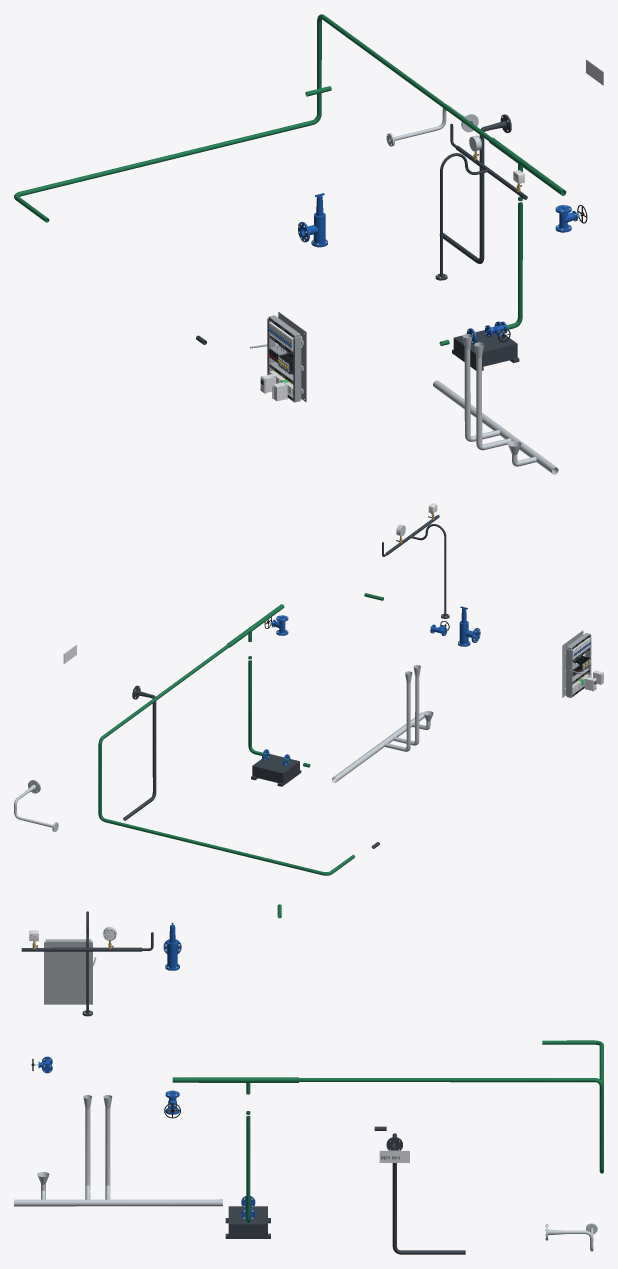
The picture shows the model from 3 angles, top to bottom: view 1: azimuth 30°, elevation 25°; view 2: azimuth 150°, elevation 25°; view 3: azimuth 270°, elevation 25°; orthographic projection. The views are drawn at different scales.
Parts seen in each view (by area): view 1: to_economizer / green, local_open_drains / steel, cabinet_interior / cabinet_interior_0.npz, pump_branch_2 / dark, bottom_to_bdv / dark, pressure_header / dark, safety_1 / blue, pump_branch_2 / green, pump_delivery / green, fv_to_trap_gap / steel; view 2: to_economizer / green, local_open_drains / steel, cabinet_interior / cabinet_interior_0.npz, pump_branch_2 / dark, bottom_to_bdv / dark, pressure_header / dark, pump_branch_2 / green; view 3: local_open_drains / steel, cabinet_interior / cabinet_interior_0.npz, to_economizer / green, pump_branch_2 / dark, bottom_to_bdv / dark, pressure_header / dark, pump_delivery / green, pump_branch_2 / green, safety_1 / blue.
Part boxes in pixels (left/top/right/bottom): to_economizer / green: left=14, top=14, right=491, bottom=222; local_open_drains / steel: left=433, top=334, right=558, bottom=474; cabinet_interior / cabinet_interior_0.npz: left=250, top=311, right=306, bottom=402; pump_branch_2 / dark: left=452, top=330, right=519, bottom=370; bottom_to_bdv / dark: left=439, top=114, right=511, bottom=263; pressure_header / dark: left=435, top=123, right=527, bottom=280; safety_1 / blue: left=298, top=193, right=327, bottom=247; pump_branch_2 / green: left=439, top=164, right=522, bottom=345; pump_delivery / green: left=489, top=137, right=566, bottom=195; fv_to_trap_gap / steel: left=386, top=105, right=478, bottom=146; to_economizer / green: left=98, top=644, right=355, bottom=875; local_open_drains / steel: left=332, top=665, right=433, bottom=782; cabinet_interior / cabinet_interior_0.npz: left=562, top=630, right=591, bottom=697; pump_branch_2 / dark: left=251, top=754, right=301, bottom=786; bottom_to_bdv / dark: left=123, top=685, right=156, bottom=820; pressure_header / dark: left=382, top=515, right=449, bottom=618; pump_branch_2 / green: left=248, top=631, right=310, bottom=767; local_open_drains / steel: left=14, top=1095, right=222, bottom=1206; cabinet_interior / cabinet_interior_0.npz: left=44, top=939, right=96, bottom=1004; to_economizer / green: left=299, top=1040, right=603, bottom=1173; pump_branch_2 / dark: left=225, top=1206, right=270, bottom=1238; bottom_to_bdv / dark: left=386, top=1133, right=465, bottom=1254; pressure_header / dark: left=21, top=911, right=153, bottom=1016; pump_delivery / green: left=172, top=1077, right=298, bottom=1082; pump_branch_2 / green: left=246, top=1082, right=250, bottom=1222; safety_1 / blue: left=163, top=922, right=181, bottom=970.
Size of the model in its own units: 5.22 by 2.93 by 5.84.
